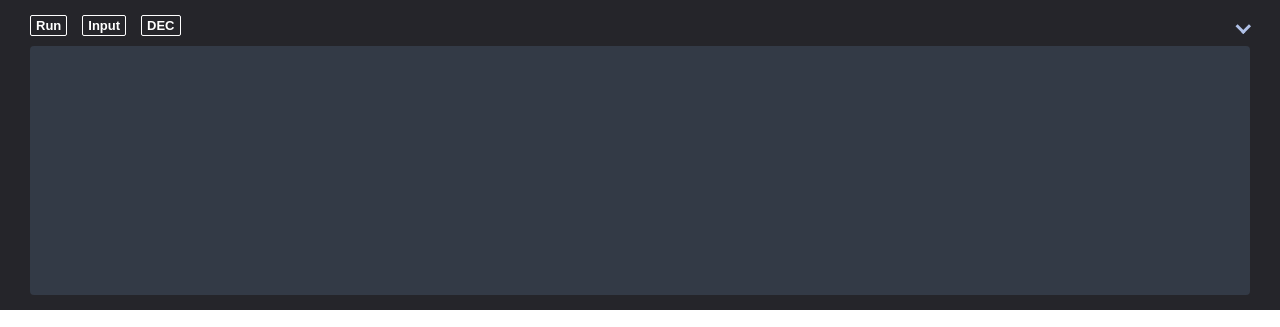
it: ControlPanel component › render Hello World!
Click the button "Run".
click(49, 26)  # box [30,15,67,36]
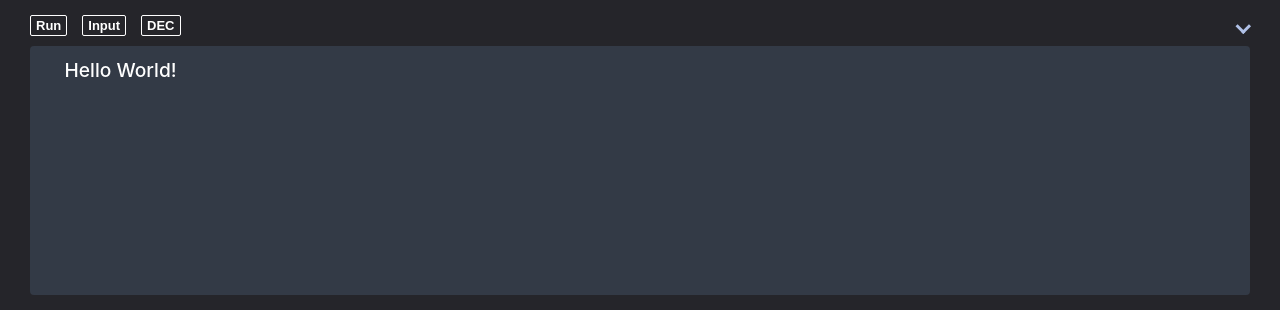
Now the text "Hello World!" is shown, box [42,58,177,82]
